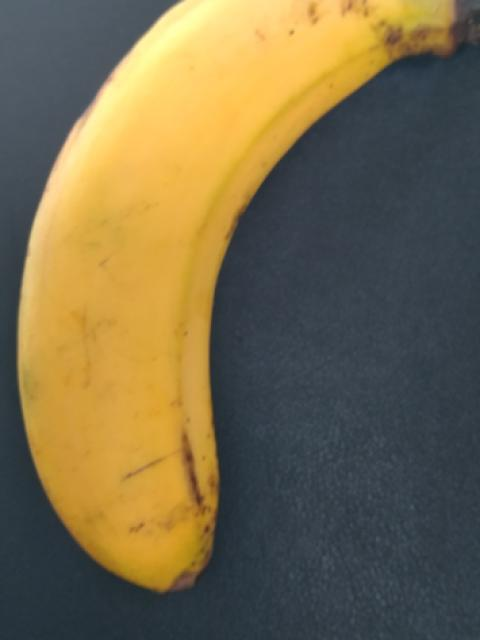freshripe: (10, 0, 473, 622)
